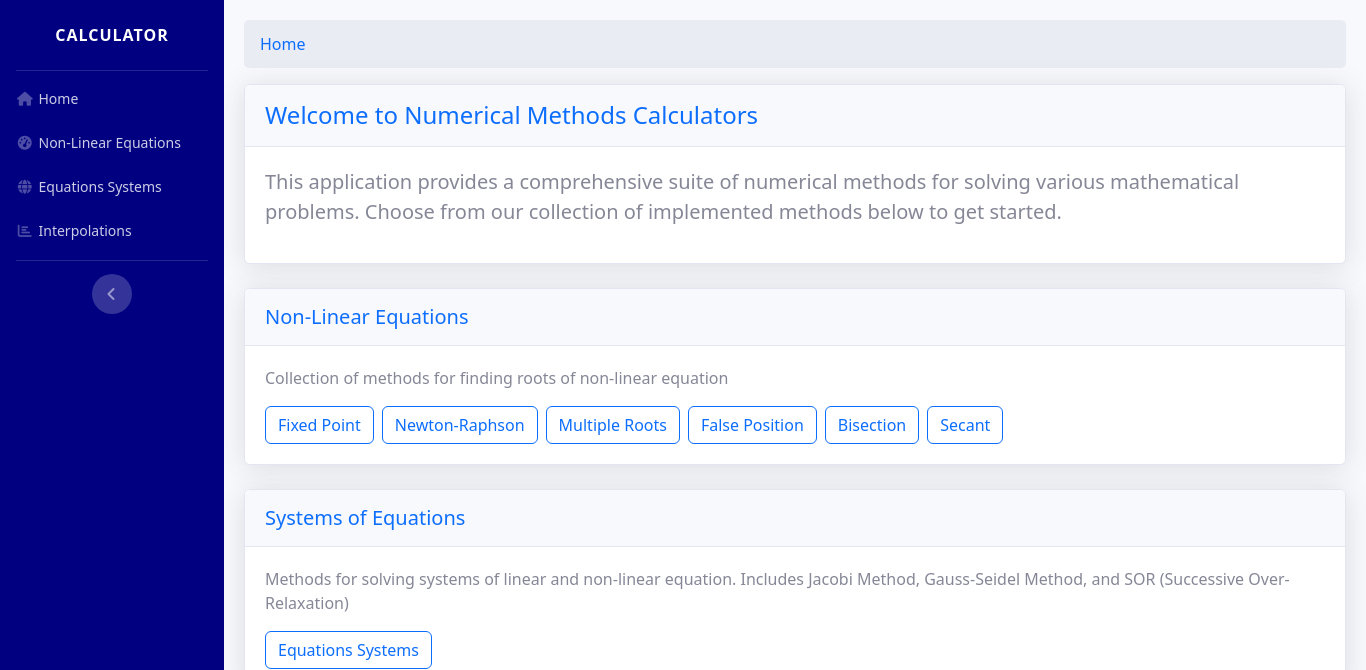
it: Smoke tests - Numerical Analysis app › navigates to key modules from sidebar
Click the link "Non-Linear Equations": [99, 143] box [16,133,181,152]
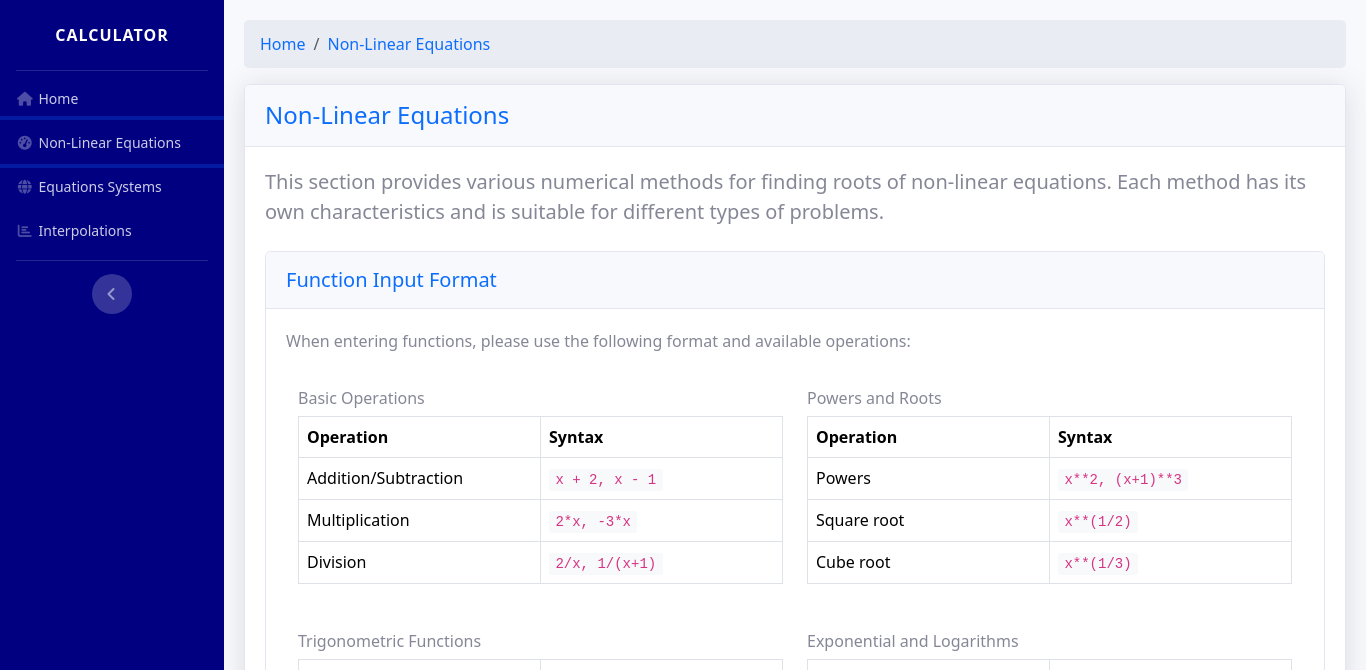
Expected: the 2nd link "Non-Linear Equations" is shown, [0,120,224,164]
Click the link "Equations Systems": [89, 187] box [16,177,162,196]
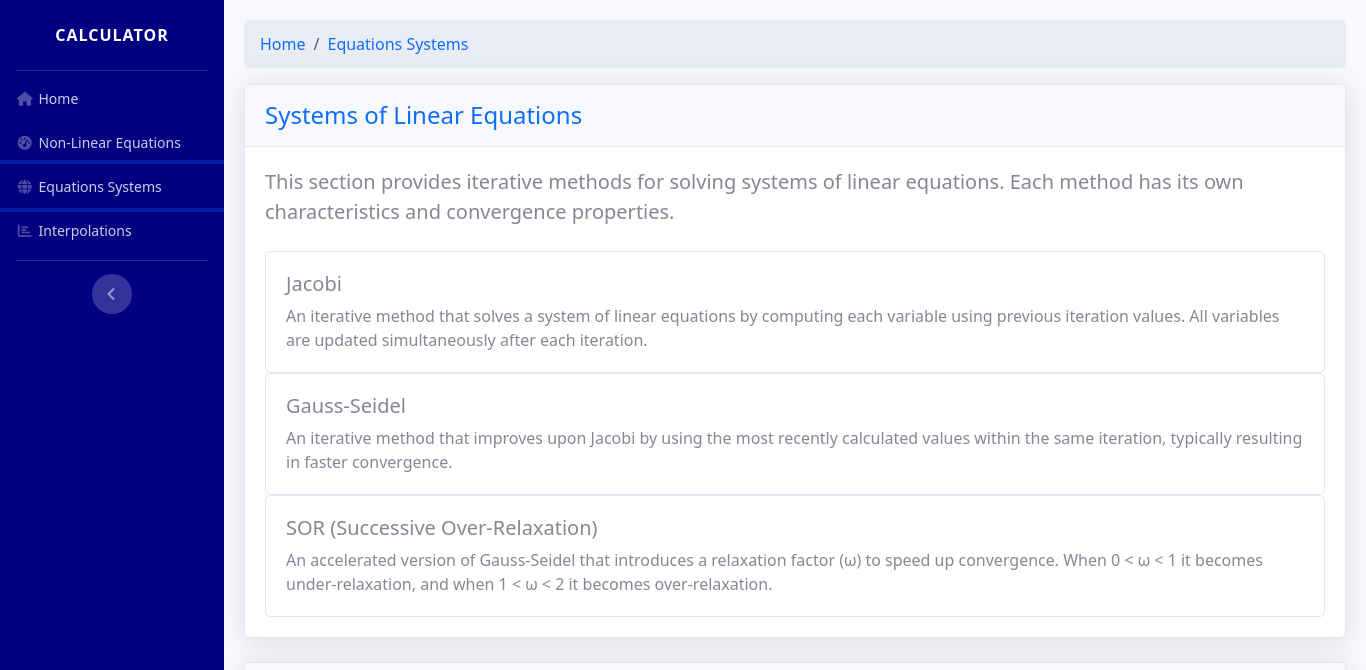
Now the heading "Systems of Linear Equations" is shown, box [265,98,582,131]
Click the link "Interpolations": [74, 231] box [16,221,132,240]
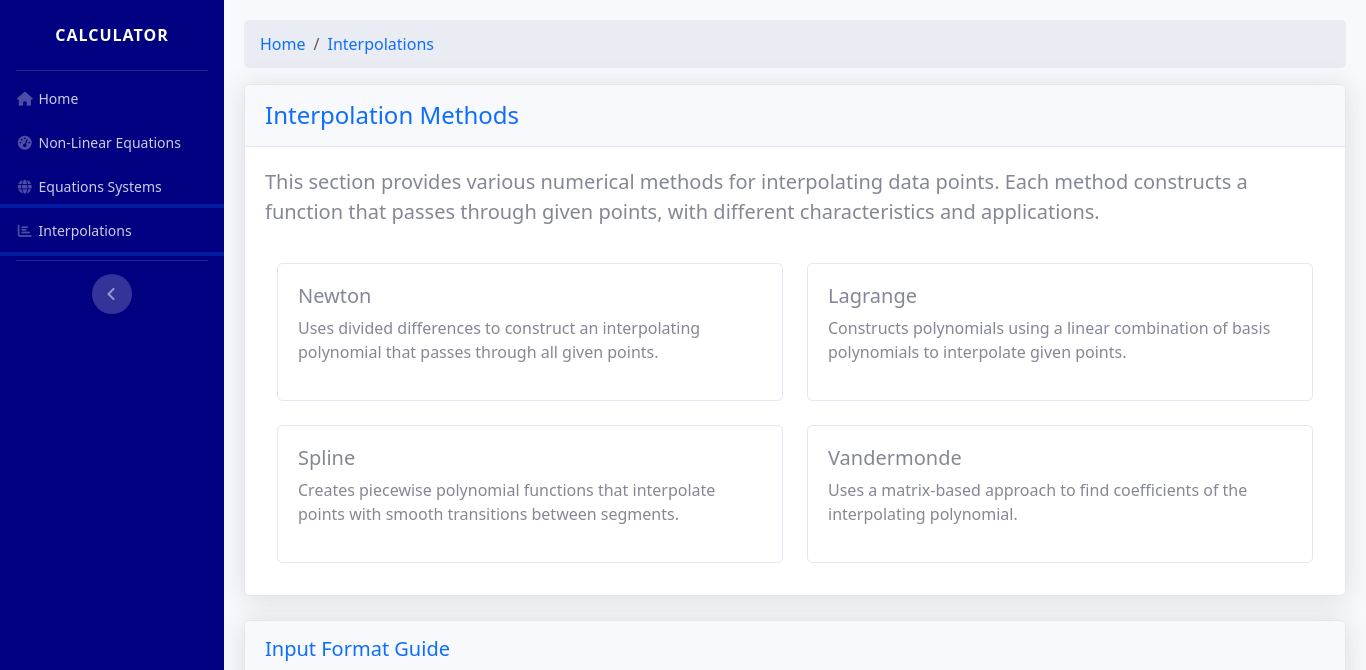
Now the heading "Interpolation Methods" is shown, box [265,98,519,131]
